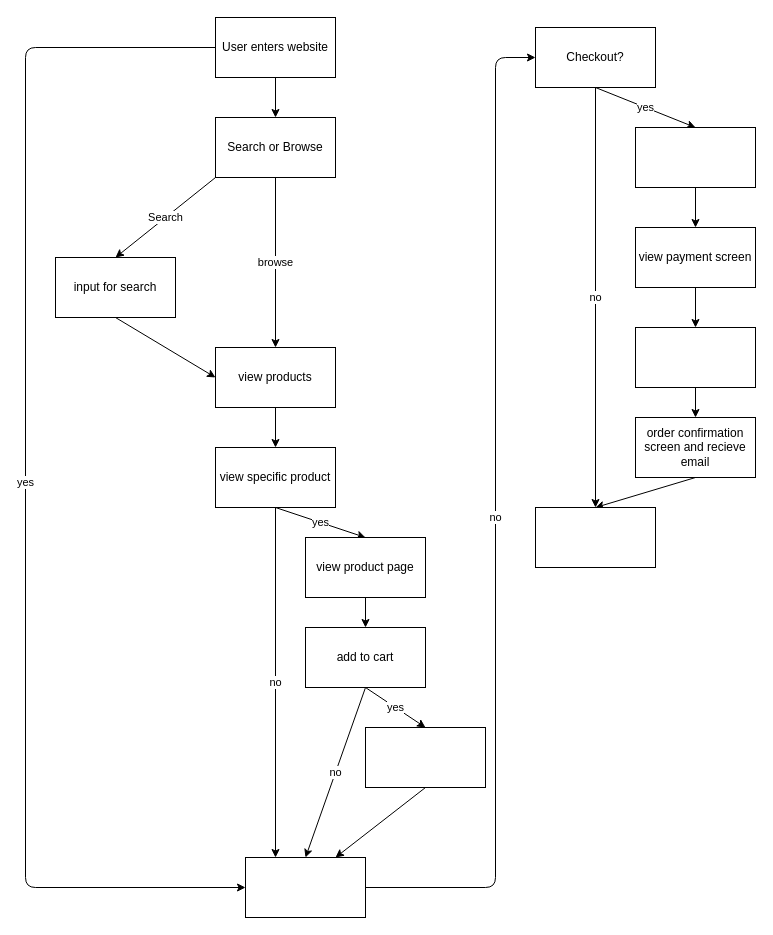
Image size: 773x935. Some labels were removed from this diagram. Each missing label, with the centre of its shape:
"continue shopping" goes at pixel 305 887.
"input payment info" goes at pixel 695 357.
"leave website" goes at pixel 595 537.
"product added to cart" goes at pixel 425 757.
"view cart screen" goes at pixel 695 157.
